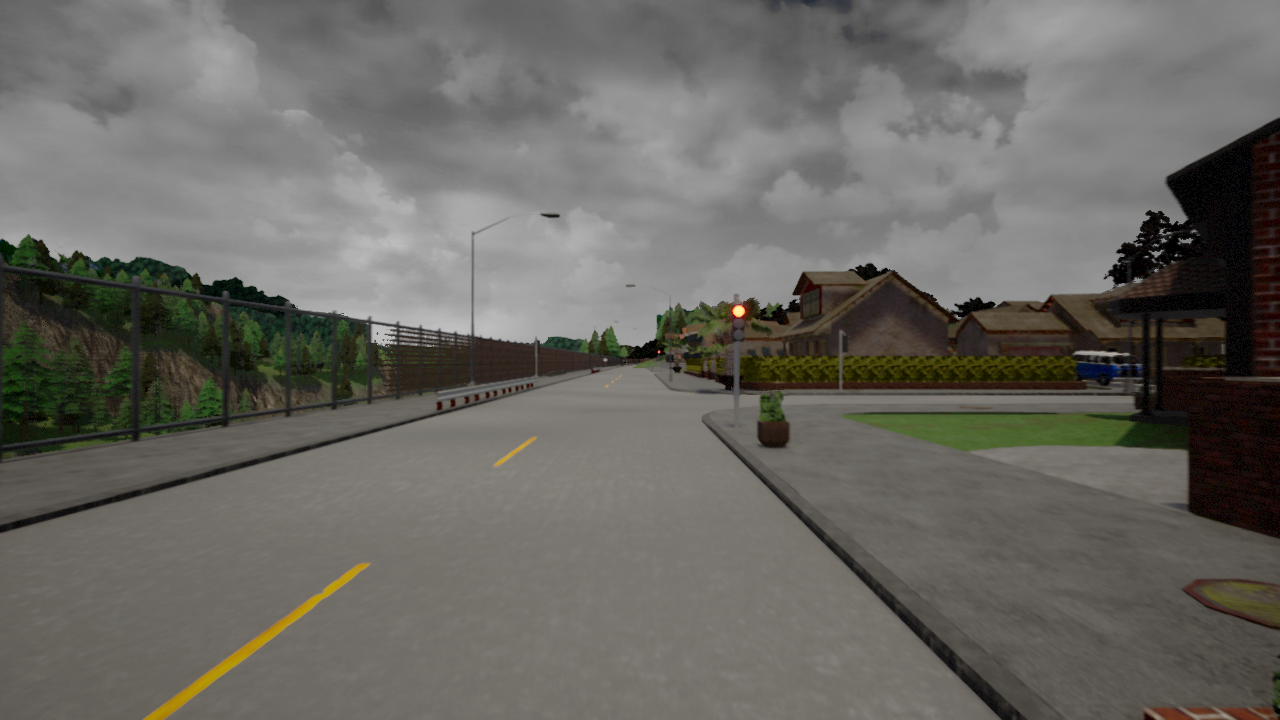red: (730, 304, 745, 344)
